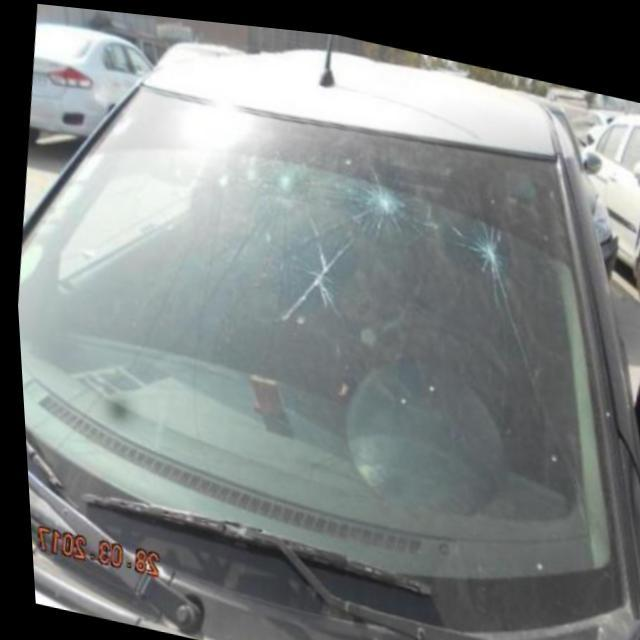glass shatter: (359, 171, 401, 214), (264, 152, 303, 191), (472, 220, 503, 261)
